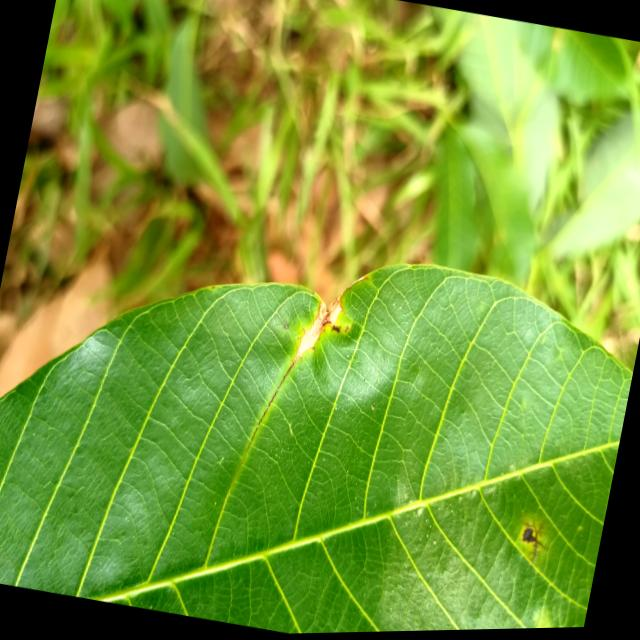Corynespora: (518, 516, 556, 568)
Leaf-Blight: (293, 289, 345, 372)
